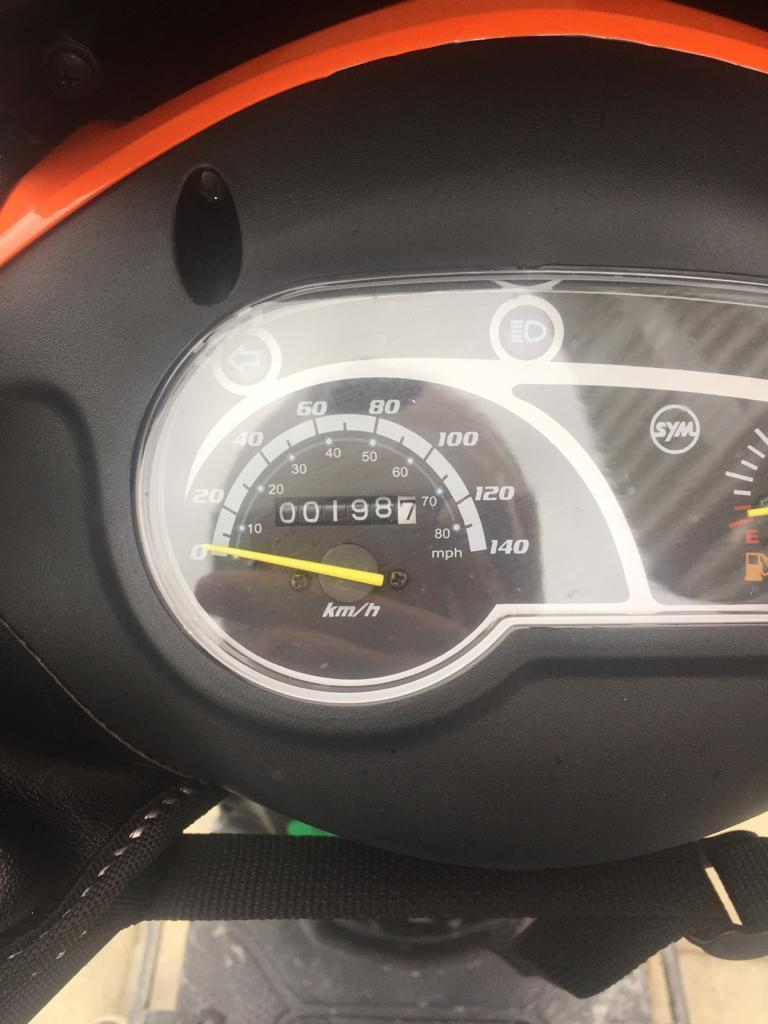0: (277, 500, 296, 525), (301, 499, 319, 525)
1: (328, 496, 341, 524)
7: (398, 498, 417, 521)
8: (373, 495, 393, 519)
9: (349, 496, 369, 522)
odometer: (268, 491, 420, 531)
